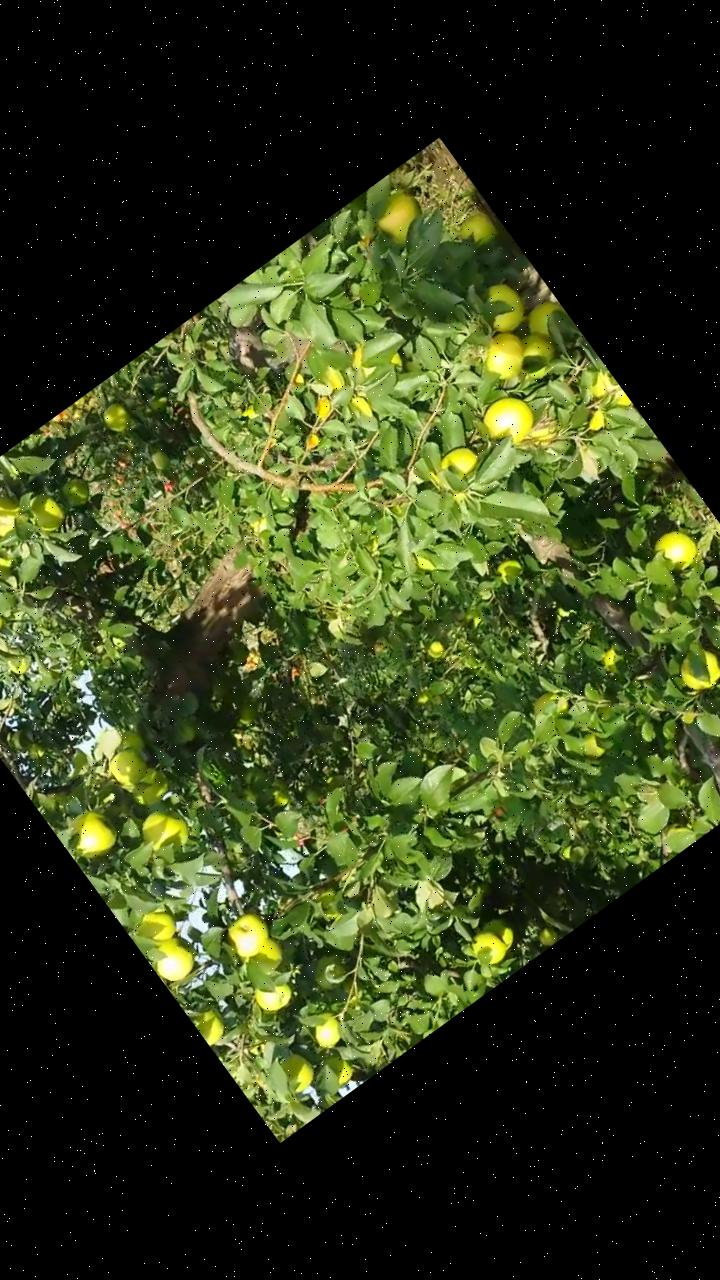Apple: (469, 387, 542, 459), (364, 184, 433, 253), (470, 324, 538, 394), (468, 276, 534, 343), (131, 801, 195, 866), (503, 325, 567, 390), (56, 805, 120, 868), (216, 907, 278, 969), (145, 930, 206, 991), (644, 522, 705, 582), (670, 640, 719, 704), (518, 294, 574, 348), (582, 367, 634, 422), (270, 1047, 322, 1101), (128, 904, 180, 956), (119, 764, 171, 816), (22, 488, 72, 542), (246, 971, 298, 1021), (430, 442, 482, 492), (239, 938, 289, 988), (450, 209, 500, 258), (524, 686, 572, 734), (476, 910, 522, 960), (510, 416, 560, 462), (103, 744, 150, 791), (190, 1002, 236, 1050), (464, 928, 510, 974), (94, 397, 138, 442), (305, 1014, 349, 1058), (318, 1050, 361, 1094), (55, 472, 97, 514), (0, 491, 29, 545), (109, 726, 148, 765), (490, 556, 527, 592), (3, 650, 36, 683), (575, 733, 607, 766), (420, 637, 451, 668), (145, 447, 175, 477), (596, 647, 626, 677), (233, 703, 259, 729), (533, 926, 559, 951), (0, 601, 9, 646)
